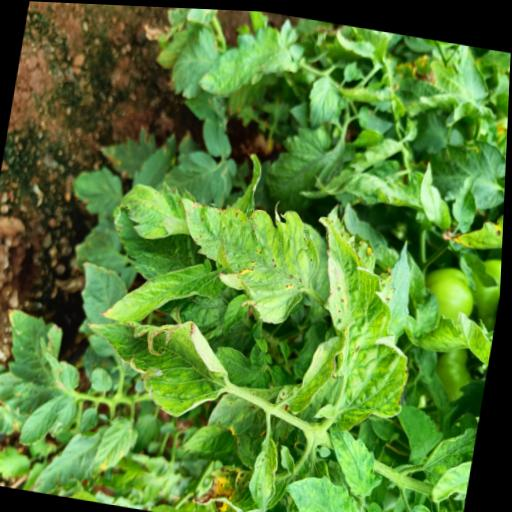Early Blight: (287, 206, 438, 438), (161, 183, 332, 330), (77, 298, 245, 424), (191, 456, 294, 512), (245, 430, 288, 512)
